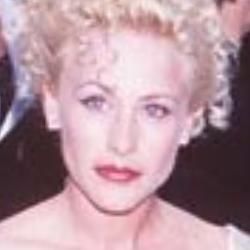face: (5, 1, 243, 219)
